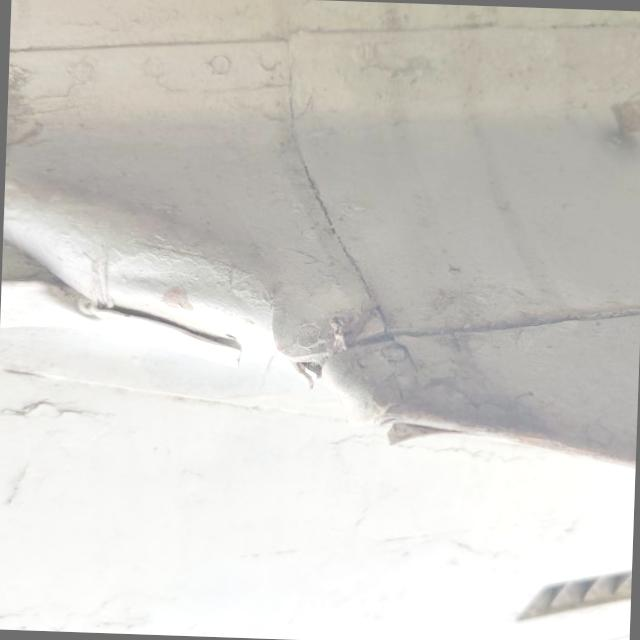crack: (344, 393, 486, 462), (266, 336, 347, 411)
